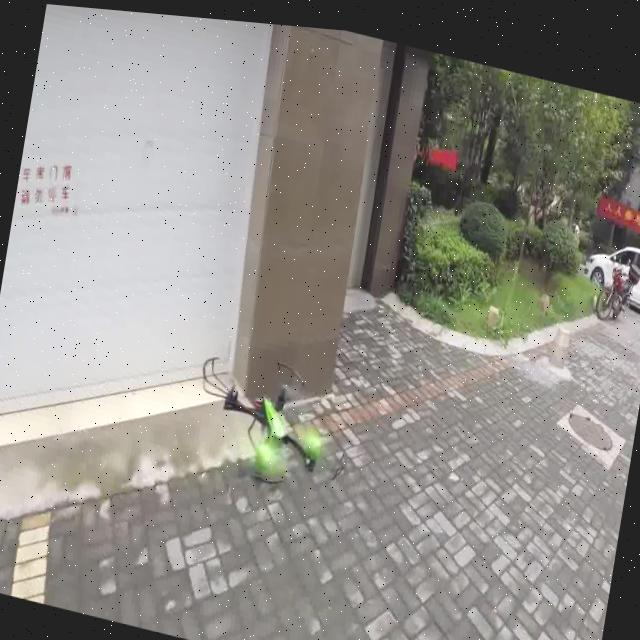drone: (115, 282, 430, 552)
